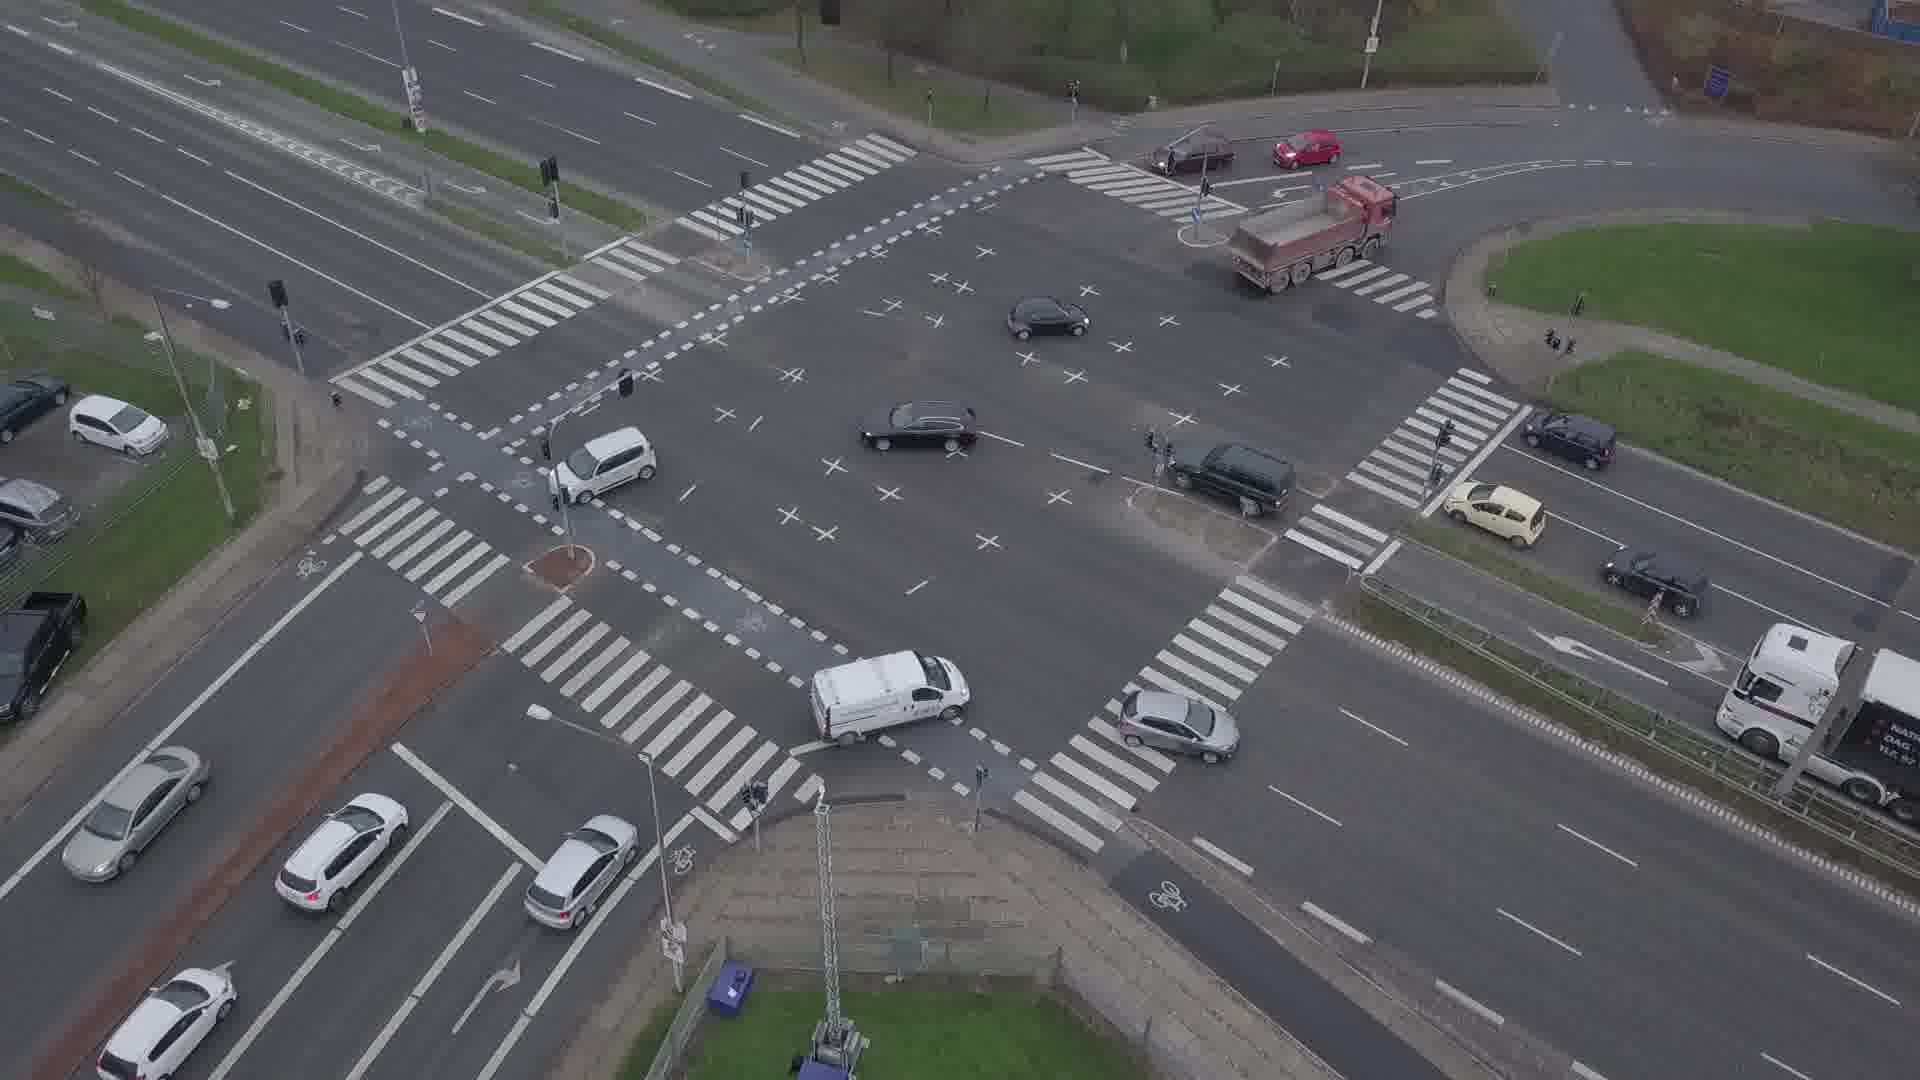car: (62, 745, 209, 882), (275, 792, 409, 912), (96, 968, 238, 1080), (523, 814, 639, 929), (1164, 441, 1297, 519), (1117, 688, 1240, 764), (548, 425, 658, 503), (1602, 545, 1708, 616), (1443, 482, 1546, 548), (860, 400, 979, 451), (1523, 408, 1617, 469), (1008, 297, 1091, 340), (1152, 131, 1234, 173), (1270, 128, 1344, 168)
lorry: (1224, 174, 1399, 294), (809, 649, 971, 747)
